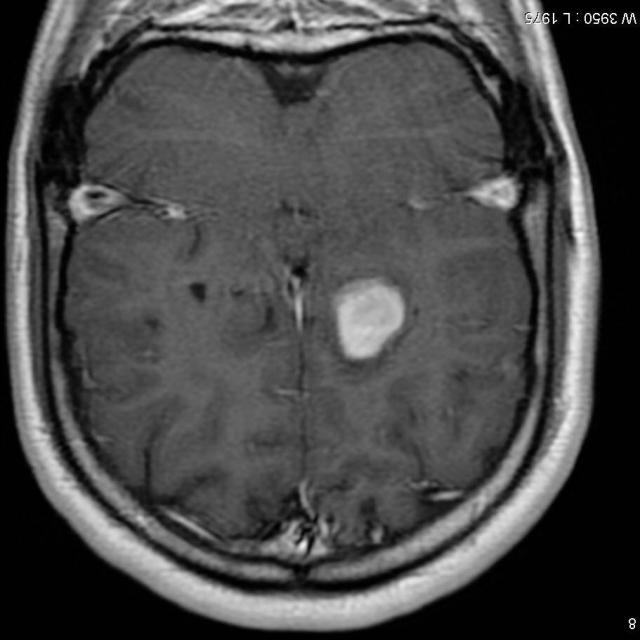Tumor: (329, 276, 412, 374)
